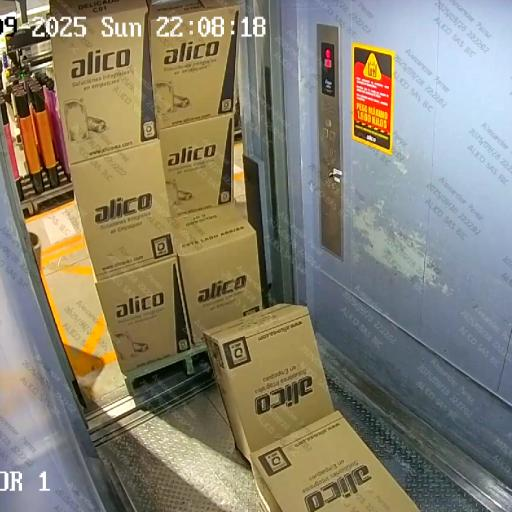Caja caida: (103, 179, 436, 512)
